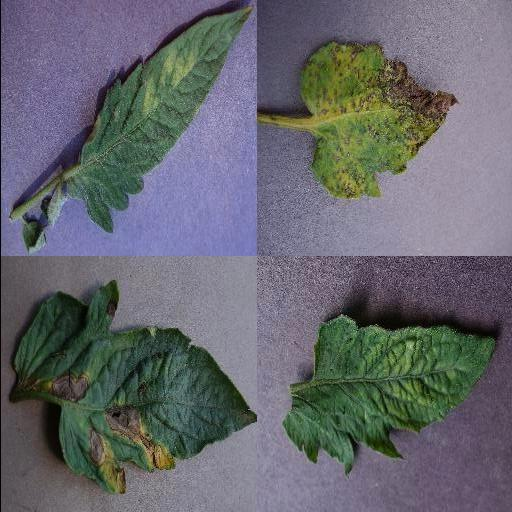Early Blight: (7, 279, 256, 494)
Leaf Mold: (68, 4, 254, 235)
Mosaic Virus: (279, 314, 497, 478)
Septoria: (300, 41, 458, 201)
